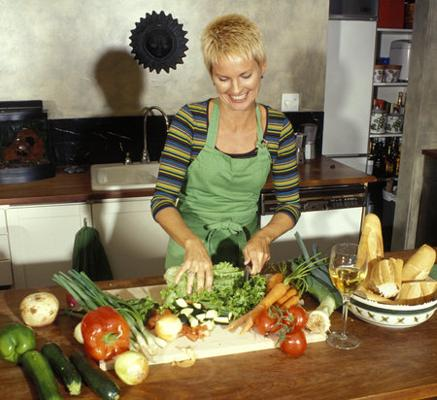person: (149, 12, 304, 301)
